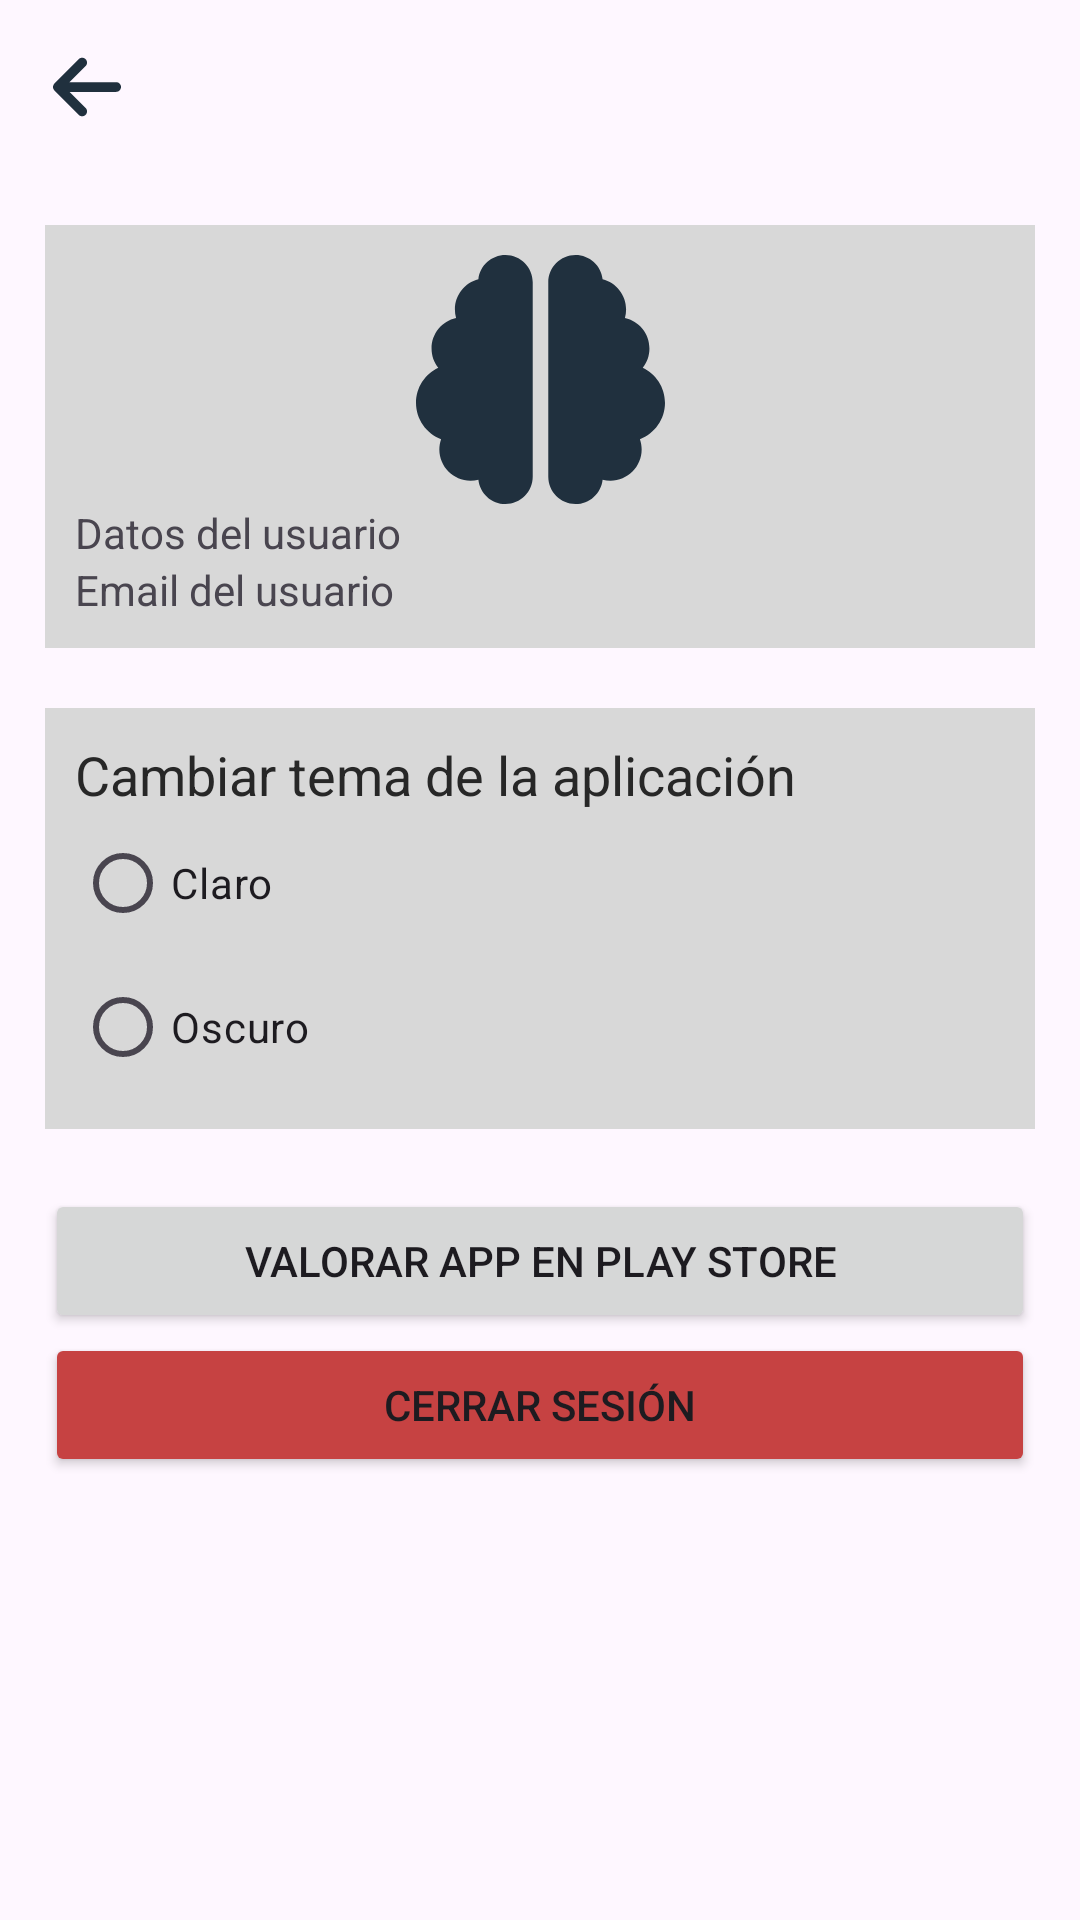

Icon click points for this 1080 x 1920 phone screenshot, format (x=x, y=y):
brain: (x=540, y=379)
go back arrow: (x=87, y=87)
